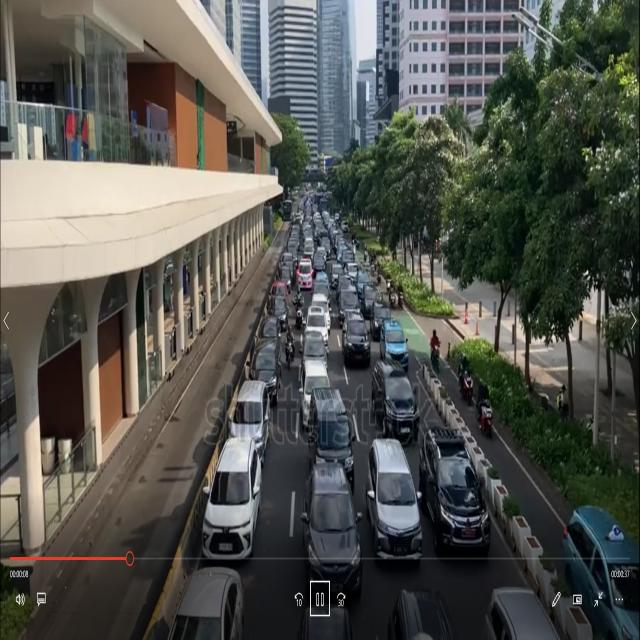Ambulance: (295, 249, 315, 300)
